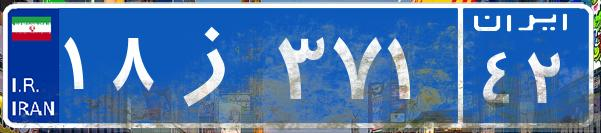1: (385, 28, 445, 110), (57, 26, 110, 107)
2: (525, 38, 570, 115)
3: (273, 28, 330, 110)
4: (475, 38, 525, 113)
7: (330, 28, 385, 110)
8: (110, 28, 158, 105)
ز: (158, 15, 273, 115)
